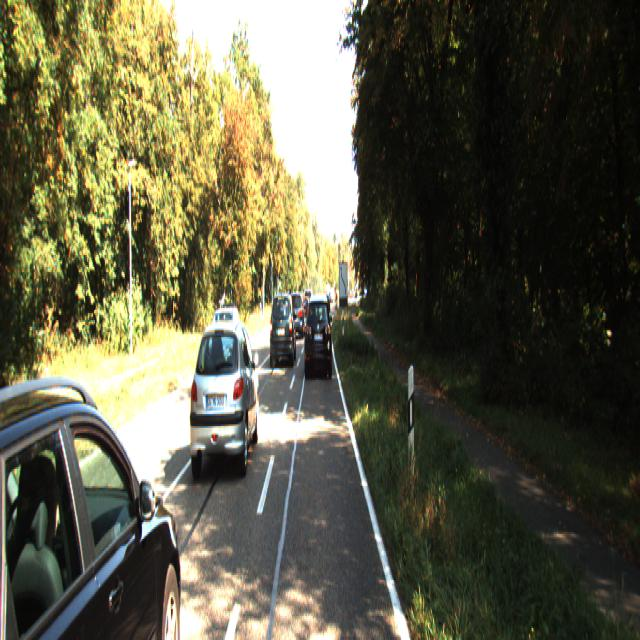Car: (0, 352, 187, 638), (189, 309, 259, 473), (202, 303, 242, 381), (304, 291, 332, 375), (270, 291, 296, 364)
